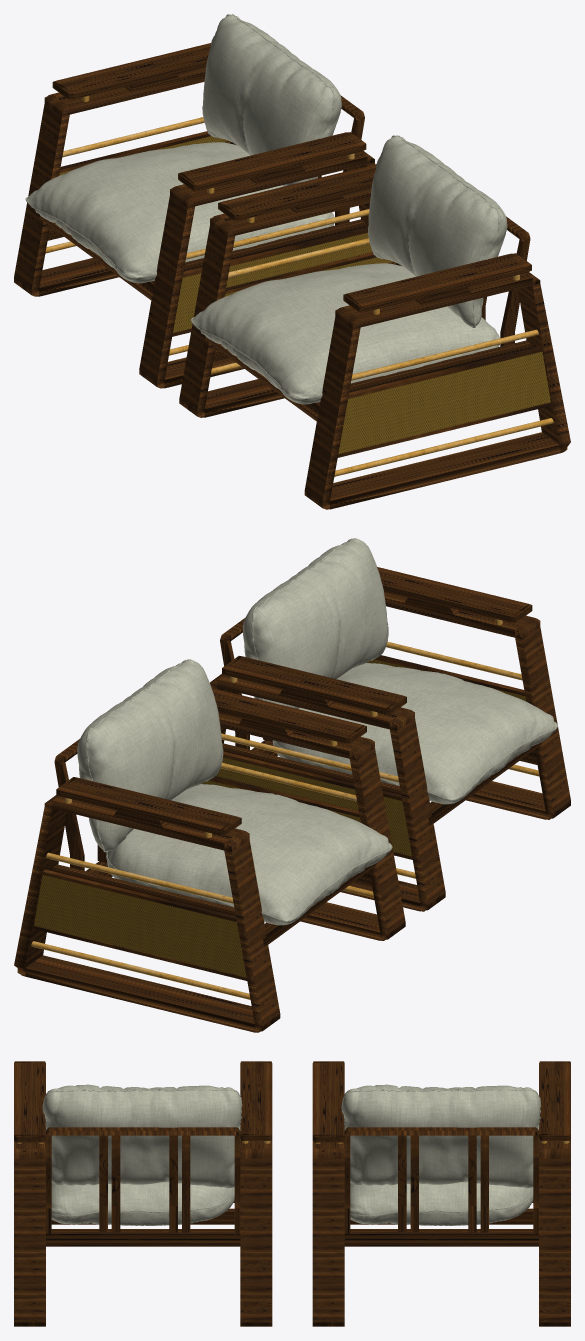
File: Wood_Chair.glb
The picture shows the model from 3 angles, top to bottom: view 1: azimuth 30°, elevation 25°; view 2: azimuth 150°, elevation 25°; view 3: azimuth 270°, elevation 25°; orthographic projection. The views are drawn at different scales.
Parts seen in each view (by area): view 1: wood_02, wood_01, fabric04, fabric02, fabric03, fabric01, Plane.005, metal_02, Plane.003, metal_01; view 2: wood_01, wood_02, fabric02, fabric04, fabric01, fabric03, Plane.002, metal_01, Plane.004, metal_02; view 3: wood_02, wood_01, fabric01, fabric03, fabric02, fabric04.
Boxes of the visible parts, x1,y1,x2,y2 form: wood_02: (179, 164, 570, 509); wood_01: (14, 43, 374, 388); fabric04: (191, 263, 499, 404); fabric02: (25, 142, 334, 283); fabric03: (368, 135, 507, 327); fabric01: (202, 14, 341, 186); Plane.005: (338, 352, 550, 453); metal_02: (211, 217, 553, 476); Plane.003: (173, 232, 372, 332); metal_01: (45, 96, 369, 355); wood_01: (14, 688, 405, 1032); wood_02: (210, 567, 570, 911); fabric02: (106, 784, 392, 925); fabric04: (272, 663, 557, 804); fabric01: (77, 659, 223, 852); fabric03: (242, 538, 388, 708); Plane.002: (34, 875, 246, 977); metal_01: (31, 740, 373, 999); Plane.004: (216, 757, 411, 855); metal_02: (221, 619, 539, 878); wood_02: (14, 1061, 272, 1326); wood_01: (312, 1061, 570, 1326); fabric01: (341, 1084, 541, 1188); fabric03: (42, 1084, 242, 1188); fabric02: (350, 1182, 533, 1225); fabric04: (51, 1182, 234, 1225).
Bounding box in the file's own units: 0.8108 × 0.7238 × 1.68.
Materials: 4 (4 with a texture image).
